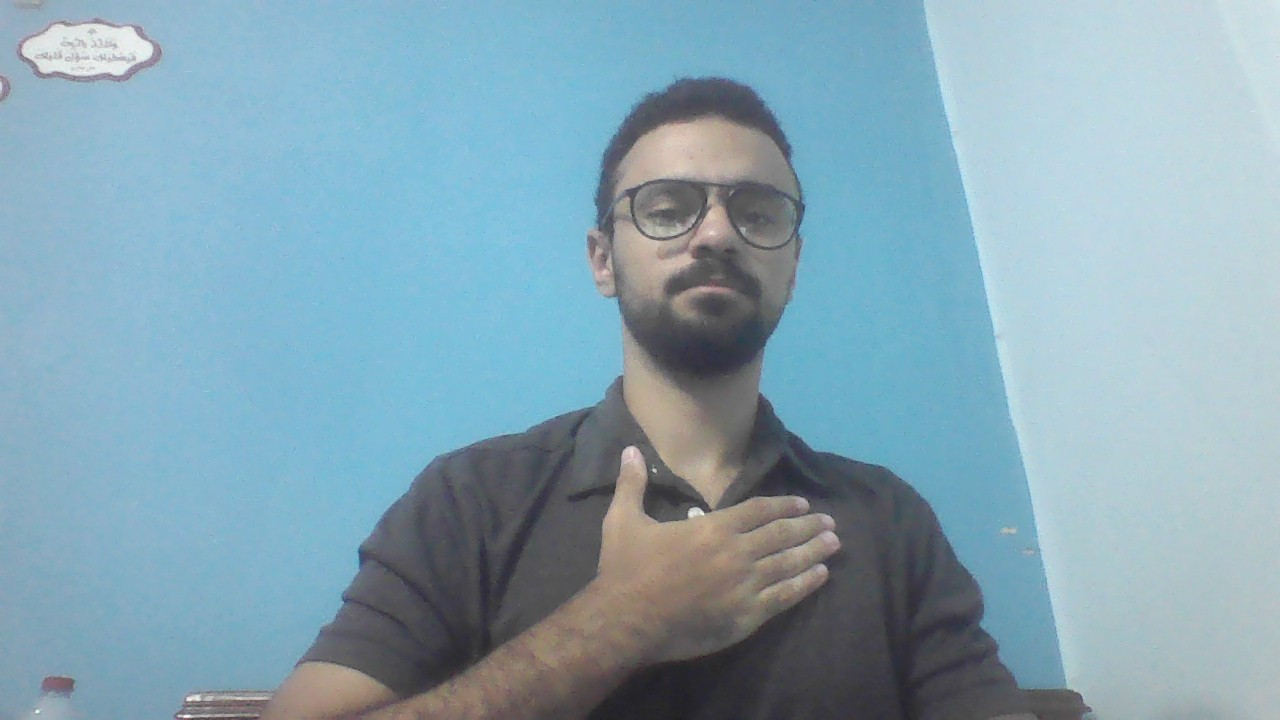please: (595, 442, 838, 663)
